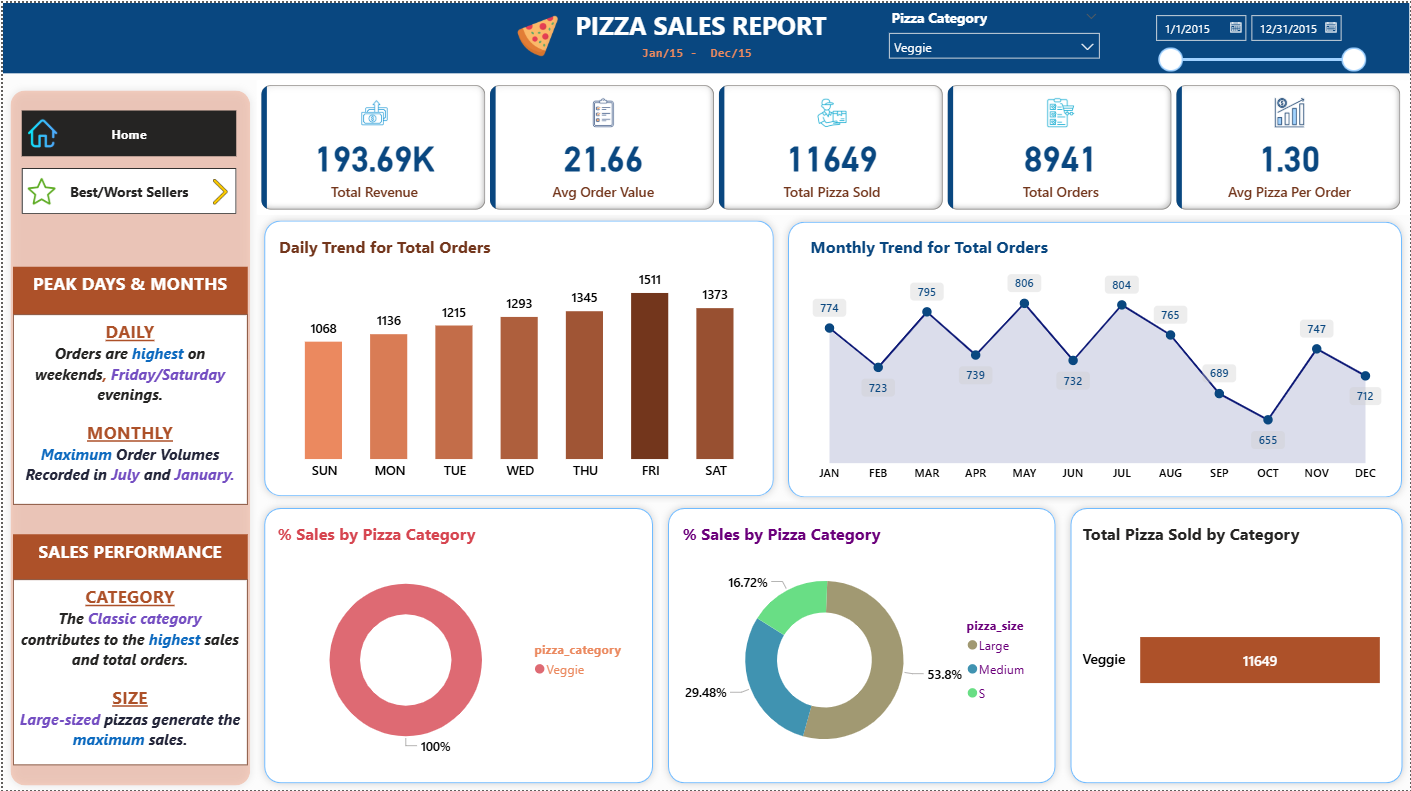

What the dashboard file says about the page in this screenshot:
{"tool":"powerbi","page":{"name":"Home","canvas":[1500,840],"ordinal":0},"visuals":[{"type":"shape","box":[0,0,1500,75],"z":0},{"type":"cardVisual","fields":{"Data":["pizza sales.Total Revenue","pizza sales.Avg Order Value","pizza sales.Total Pizza Sold","pizza sales.Total Orders","pizza sales.Avg Pizza Per Order"]},"box":[271.4,82.7,1228.9,143.3],"z":1000},{"type":"textbox","box":[570,0,347.7,56.3],"z":2000},{"type":"textbox","box":[670,38,143.6,35.2],"z":3000},{"type":"shape","box":[0,85.9,271.7,757.2],"z":3000,"group":"g5"},{"type":"image","box":[527.8,8.4,84.5,54.9],"z":4000},{"type":"group","id":"g1","title":"Group 1","box":[270,224.6,559.3,310],"z":5000},{"type":"shape","box":[270,224.6,559.3,310],"z":5000,"group":"g1"},{"type":"shape","box":[829.4,225.9,670.9,310],"z":5000,"group":"g2"},{"type":"shape","box":[270.2,530.6,430.7,309.7],"z":5000,"group":"g3"},{"type":"shape","box":[700.9,530.6,429.3,309.7],"z":5000,"group":"g4"},{"type":"columnChart","title":"Daily Trend for Total Orders","fields":{"Category":["pizza sales.Order Day"],"Y":["pizza sales.Total Orders"]},"box":[288.4,248,525,270.7],"z":6000,"group":"g1"},{"type":"shape","box":[1130.2,530.6,370.2,309.7],"z":6000},{"type":"areaChart","title":"Monthly Trend for Total Orders","fields":{"Category":["pizza sales.Order Month"],"Y":["pizza sales.Total Orders"]},"box":[855.7,248.8,623.3,272],"z":6001,"group":"g2"},{"type":"group","id":"g2","title":"Group 1","box":[829.4,225.9,670.9,310],"z":7000},{"type":"group","id":"g3","title":"Group 1","box":[270.2,530.6,430.7,309.7],"z":8000},{"type":"group","id":"g4","title":"Group 1","box":[700.9,530.6,429.3,309.7],"z":9000},{"type":"donutChart","title":"% Sales by Pizza Category","fields":{"Category":["pizza sales.pizza_category"],"Y":["pizza sales.Total Revenue"]},"box":[288.5,554.6,392.7,270.2],"z":10000},{"type":"donutChart","title":"% Sales by Pizza Category","fields":{"Category":["pizza sales.pizza_size"],"Y":["pizza sales.Total Revenue"]},"box":[720.6,554.6,392.7,270.2],"z":11000},{"type":"funnel","title":"Total Pizza Sold by Category","fields":{"Category":["pizza sales.pizza_category"],"Y":["pizza sales.Total Pizza Sold"]},"box":[1147.1,554.6,332.2,270.2],"z":12000},{"type":"group","id":"g5","title":"Group 1","box":[0,85.9,271.7,757.2],"z":13000},{"type":"textbox","box":[10.3,332.4,250,202.9],"z":14000},{"type":"textbox","box":[10.3,566.2,250,48.5],"z":15000},{"type":"slicer","fields":{"Values":["pizza sales.order_date"]},"box":[1217.5,2.8,244.9,83],"z":16000},{"type":"textbox","box":[10.3,281.6,250,98.5],"z":16001,"group":"g5"},{"type":"textbox","box":[10.3,614.7,250,198.5],"z":17000},{"type":"cardVisual","fields":{"Data":["pizza sales.Total Revenue","pizza sales.Avg Order Value","pizza sales.Total Pizza Sold","pizza sales.Total Orders","pizza sales.Avg Pizza Per Order"]},"box":[271.1,82.7,1228.9,143.3],"z":18000},{"type":"slicer","fields":{"Values":["pizza sales.pizza_category"]},"box":[934.6,0,244.9,71.8],"z":19000},{"type":"pageNavigator","box":[20.6,176.5,229.4,50],"z":20000},{"type":"pageNavigator","box":[20.6,114.7,229.4,50],"z":21000},{"type":"image","box":[10.3,119.1,63.2,41.2],"z":22000},{"type":"image","box":[213.2,180.9,36.8,39.7],"z":23000},{"type":"image","box":[20.6,180.9,42.6,39.7],"z":24000}]}

Visuals, with their boxes in screenshot pixels (x1, y1, x2, y2), scaled from the page's 1500x840 canvas onto the 1411x791 screenshot:
shape: (left=0, top=0, right=1410, bottom=71)
cardVisual - pizza sales.Total Revenue x pizza sales.Avg Order Value: (left=255, top=78, right=1410, bottom=213)
textbox: (left=536, top=0, right=863, bottom=53)
textbox: (left=630, top=36, right=765, bottom=69)
shape: (left=0, top=81, right=256, bottom=790)
image: (left=496, top=8, right=576, bottom=60)
"Group 1" group: (left=254, top=211, right=780, bottom=503)
shape: (left=254, top=211, right=780, bottom=503)
shape: (left=780, top=213, right=1410, bottom=505)
shape: (left=254, top=500, right=659, bottom=790)
shape: (left=659, top=500, right=1063, bottom=790)
"Daily Trend for Total Orders" columnChart: (left=271, top=234, right=765, bottom=488)
shape: (left=1063, top=500, right=1410, bottom=790)
"Monthly Trend for Total Orders" areaChart: (left=805, top=234, right=1391, bottom=490)
"Group 1" group: (left=780, top=213, right=1410, bottom=505)
"Group 1" group: (left=254, top=500, right=659, bottom=790)
"Group 1" group: (left=659, top=500, right=1063, bottom=790)
"% Sales by Pizza Category" donutChart: (left=271, top=522, right=641, bottom=777)
"% Sales by Pizza Category" donutChart: (left=678, top=522, right=1047, bottom=777)
"Total Pizza Sold by Category" funnel: (left=1079, top=522, right=1392, bottom=777)
"Group 1" group: (left=0, top=81, right=256, bottom=790)
textbox: (left=10, top=313, right=245, bottom=504)
textbox: (left=10, top=533, right=245, bottom=579)
slicer - pizza sales.order_date: (left=1145, top=3, right=1376, bottom=81)
textbox: (left=10, top=265, right=245, bottom=358)
textbox: (left=10, top=579, right=245, bottom=766)
cardVisual - pizza sales.Total Revenue x pizza sales.Avg Order Value: (left=255, top=78, right=1410, bottom=213)
slicer - pizza sales.pizza_category: (left=879, top=0, right=1110, bottom=68)
pageNavigator: (left=19, top=166, right=235, bottom=213)
pageNavigator: (left=19, top=108, right=235, bottom=155)
image: (left=10, top=112, right=69, bottom=151)
image: (left=201, top=170, right=235, bottom=208)
image: (left=19, top=170, right=59, bottom=208)
